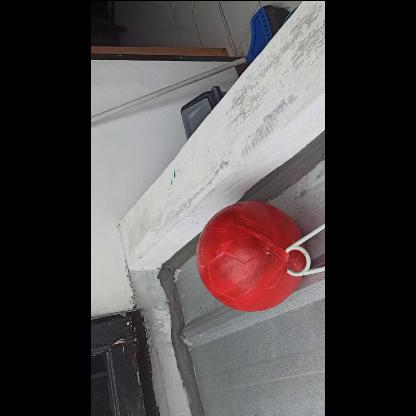red_ball: (195, 202, 304, 310)
